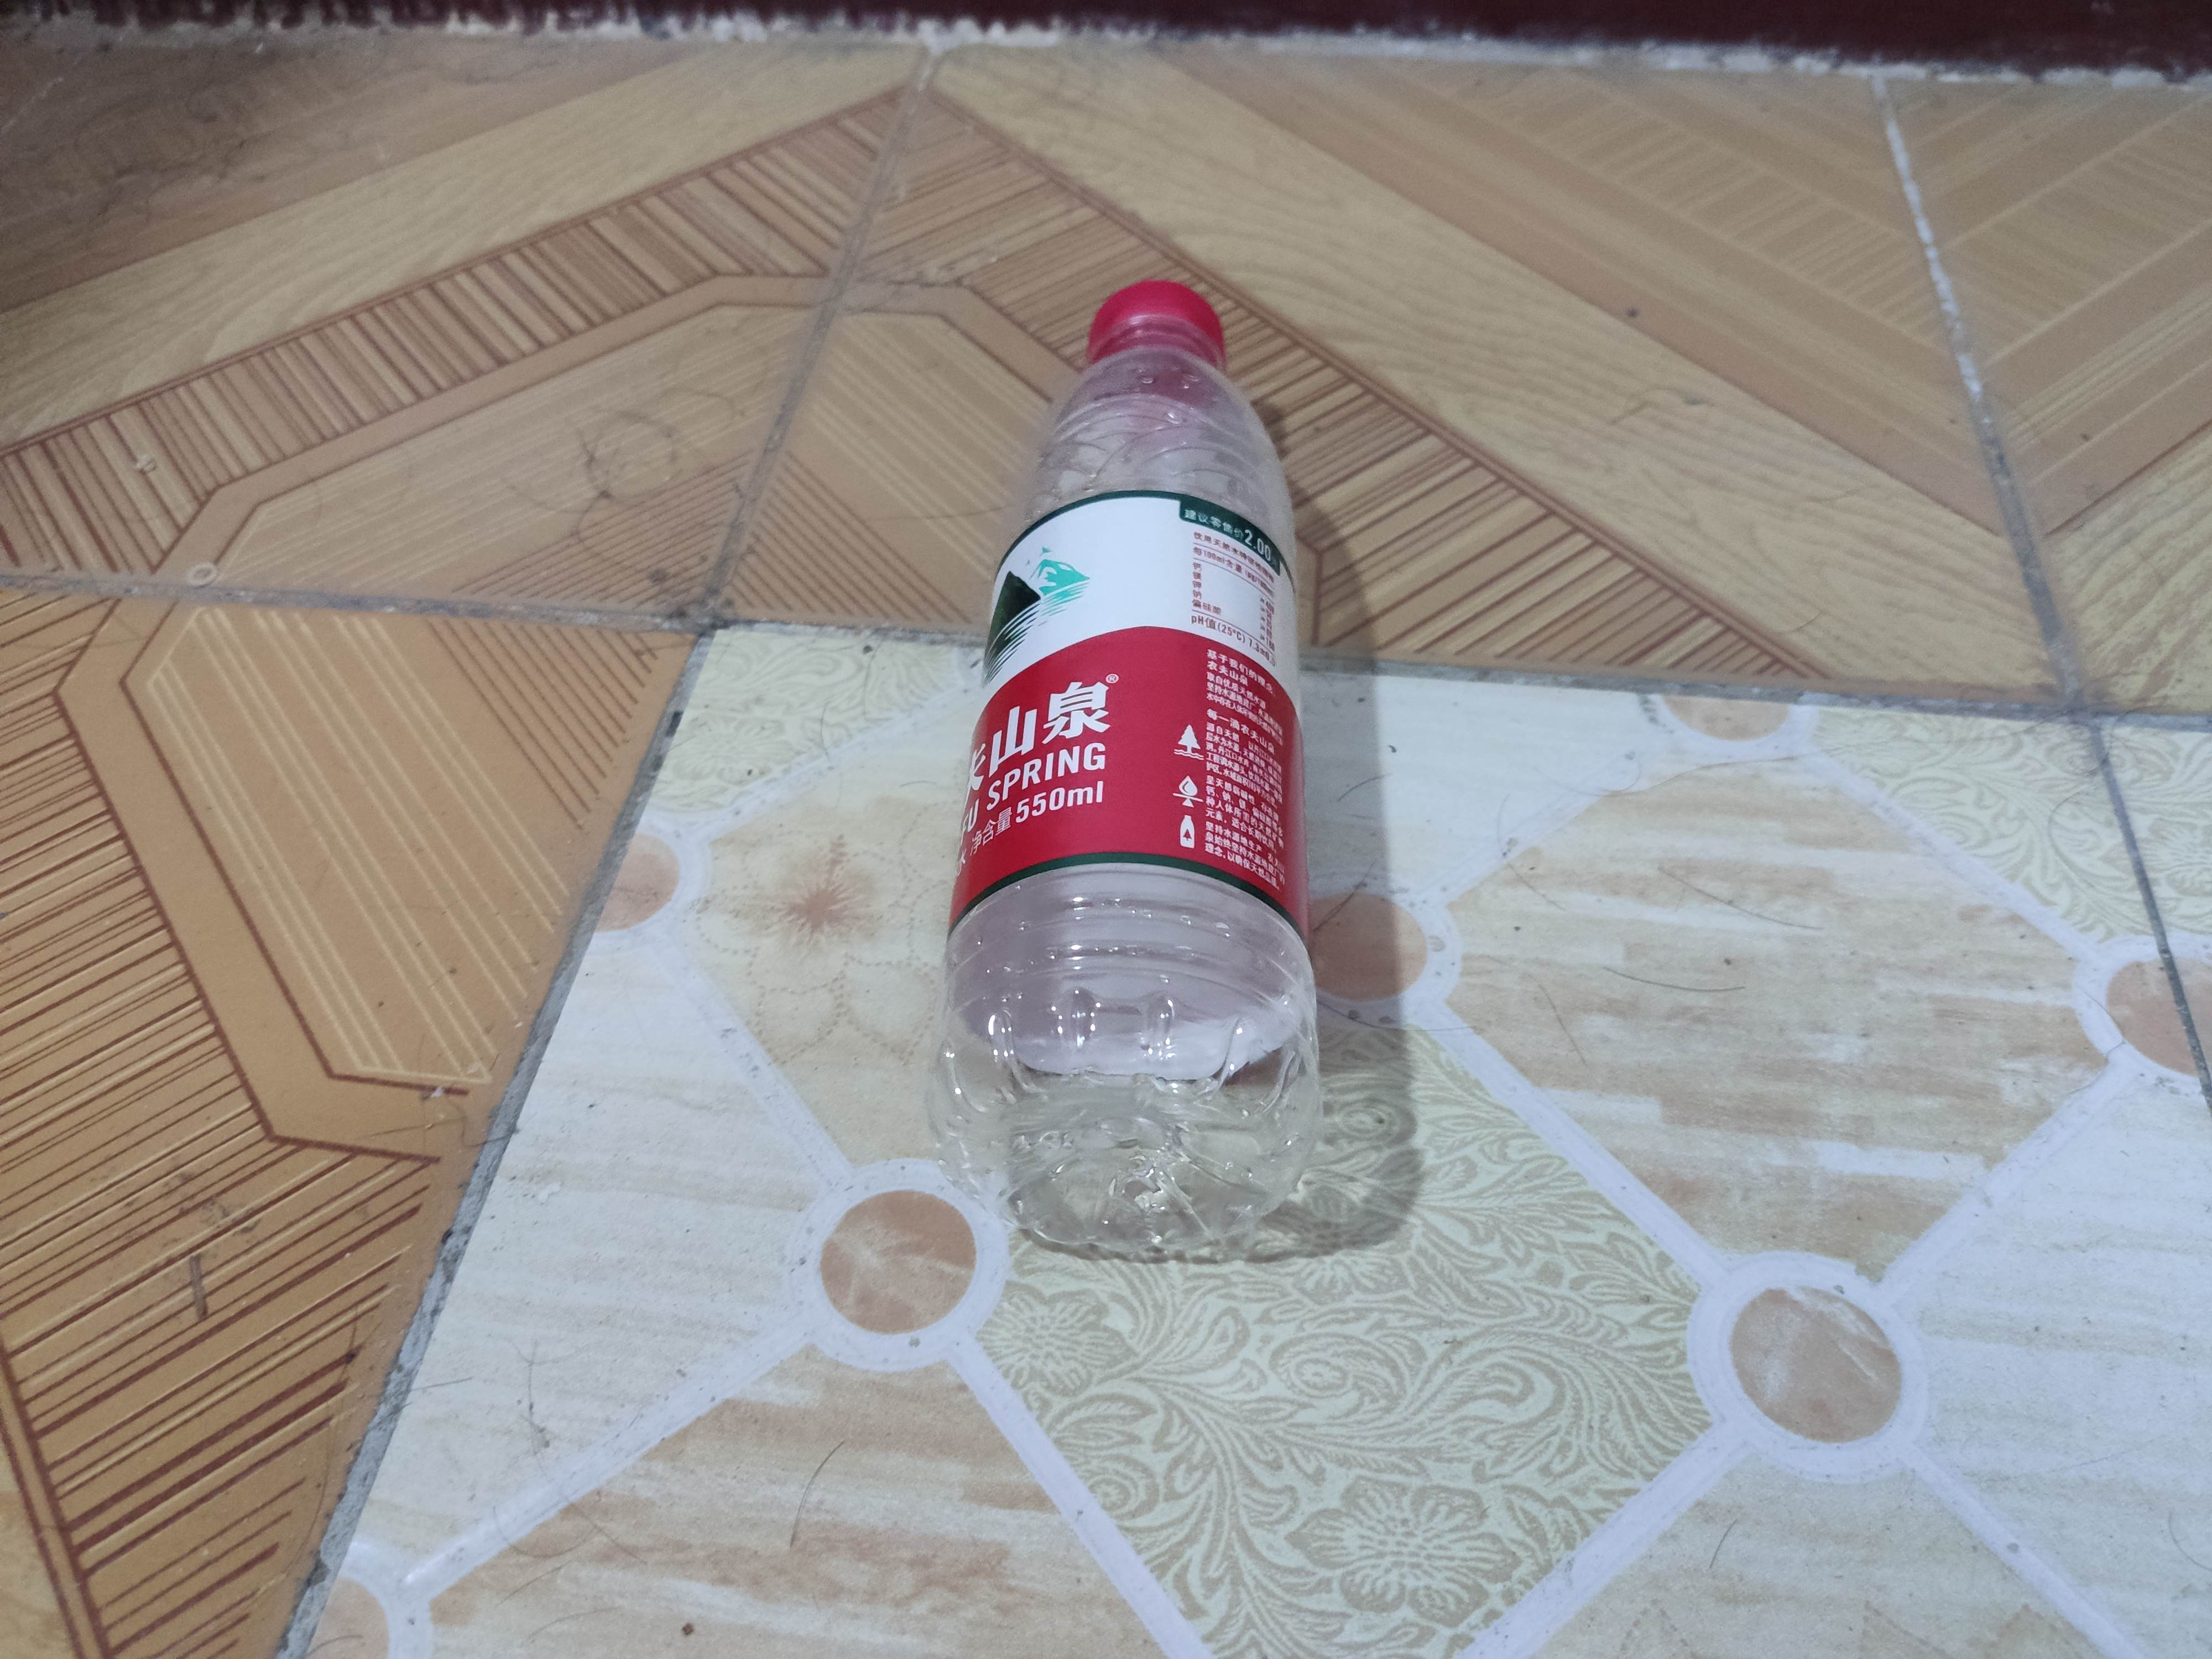Plastic Bottle: (916, 275, 1329, 1269)
